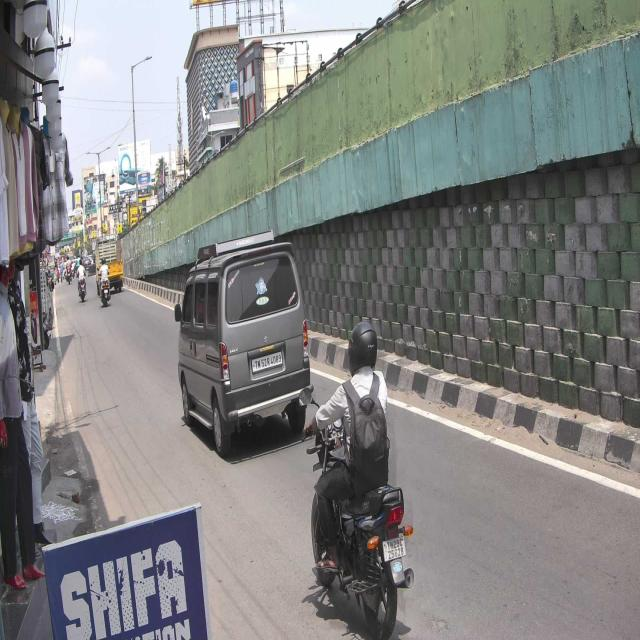single_rider: (298, 322, 415, 640)
